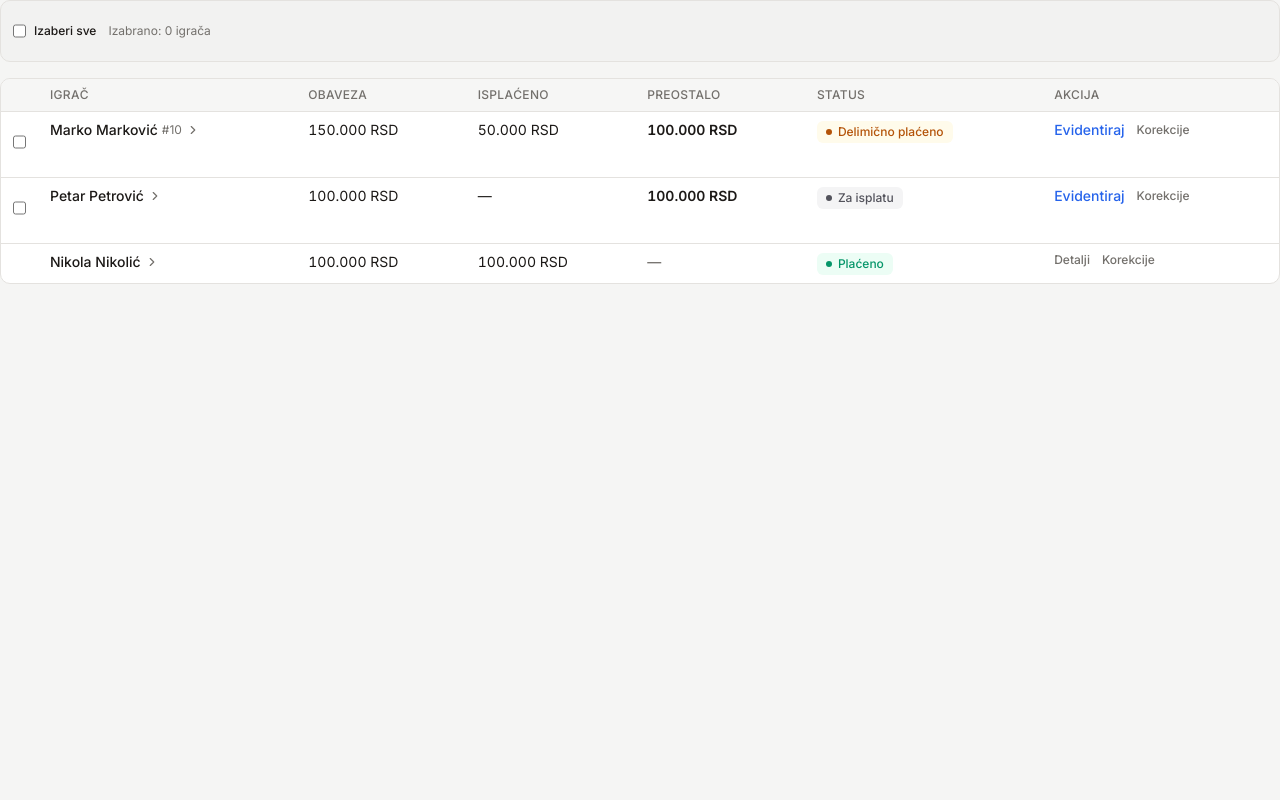
MonthPayments individual recording › blocks amounts above the remaining and 0/empty in the dialog
Click the button "Evidentiraj" in the row of "150.000 RSD": (1089, 130) left=1054, top=120, right=1125, bottom=140
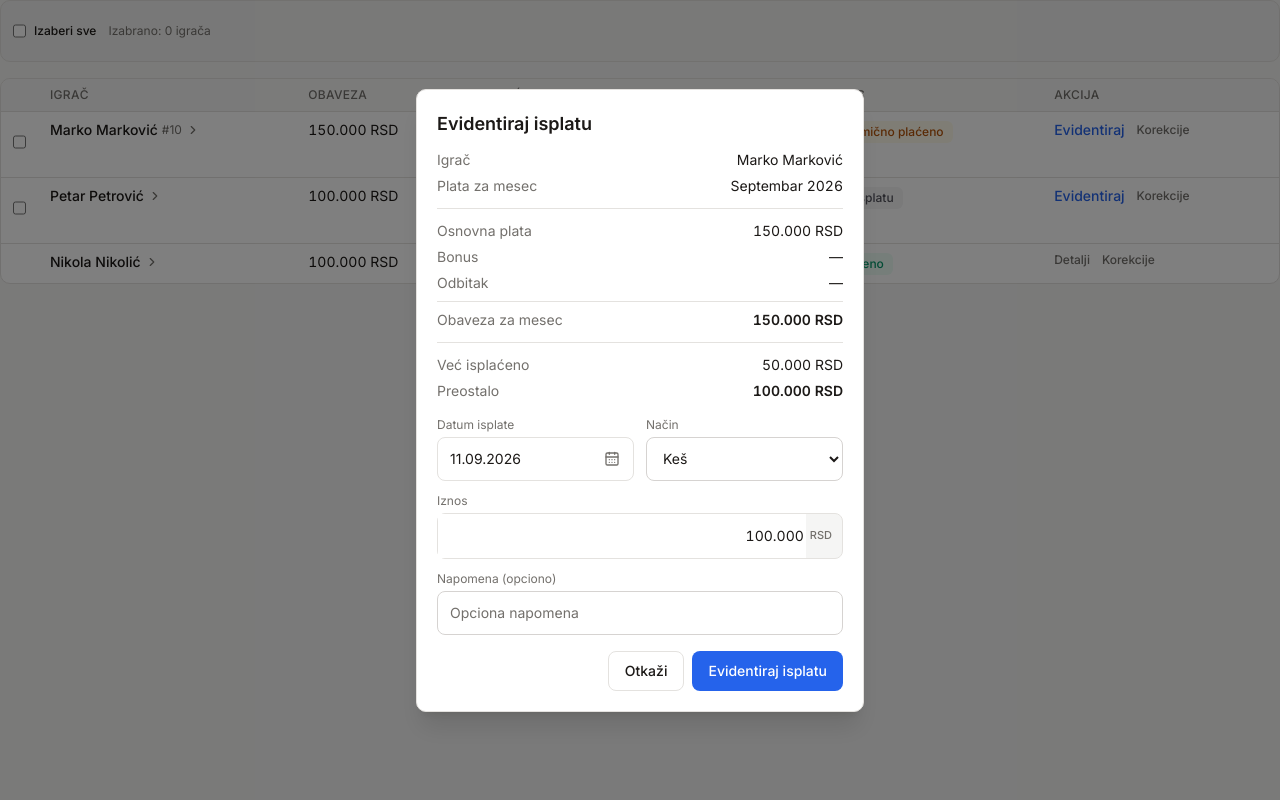
Now the button "Evidentiraj isplatu" is enabled, box left=692, top=650, right=843, bottom=690
Replace the text in the field labelled "Iznos" with "200.000": (622, 536) left=438, top=514, right=806, bottom=558
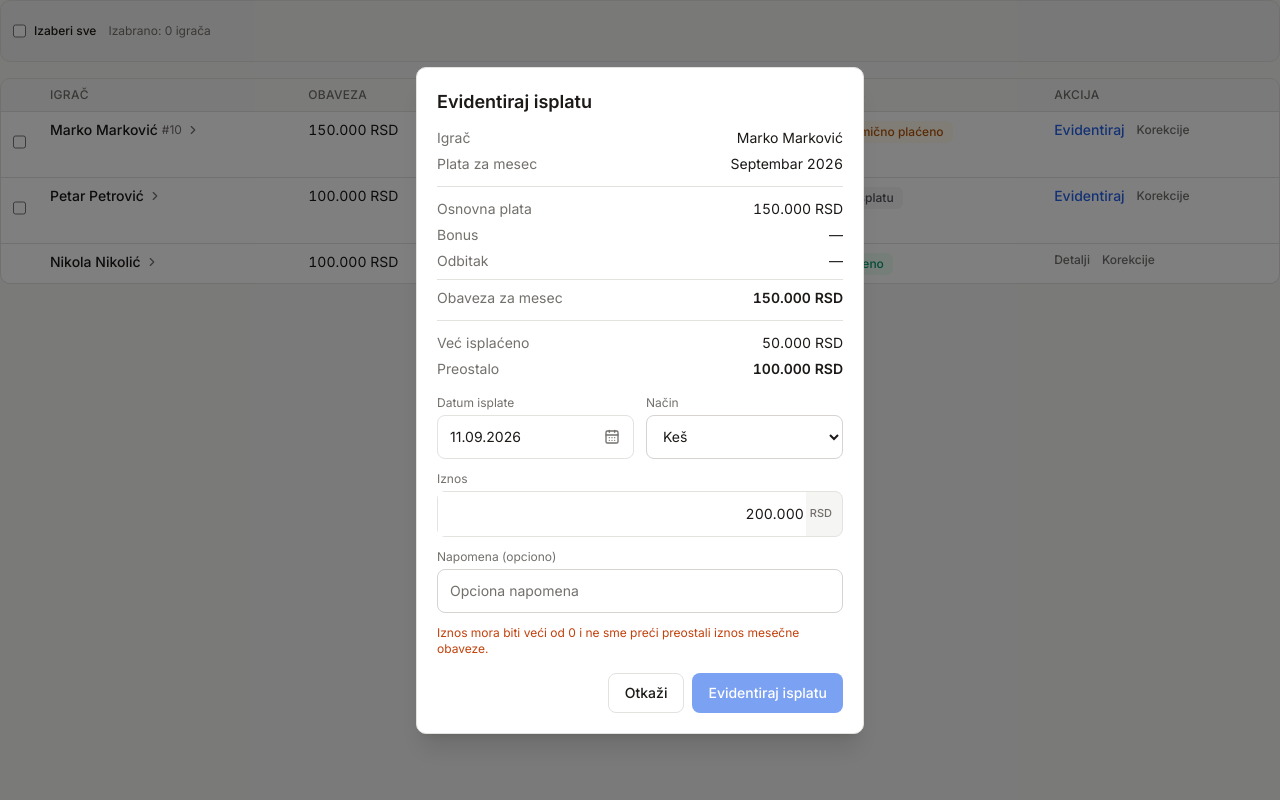
Now the button "Evidentiraj isplatu" is disabled, box left=692, top=672, right=843, bottom=712
Now the text "Iznos mora biti veći od 0 i ne sme preći preostali iznos mesečne obaveze." is shown, box left=437, top=624, right=843, bottom=656
Clear the field labelled "Iznos": (622, 514) left=438, top=492, right=806, bottom=536
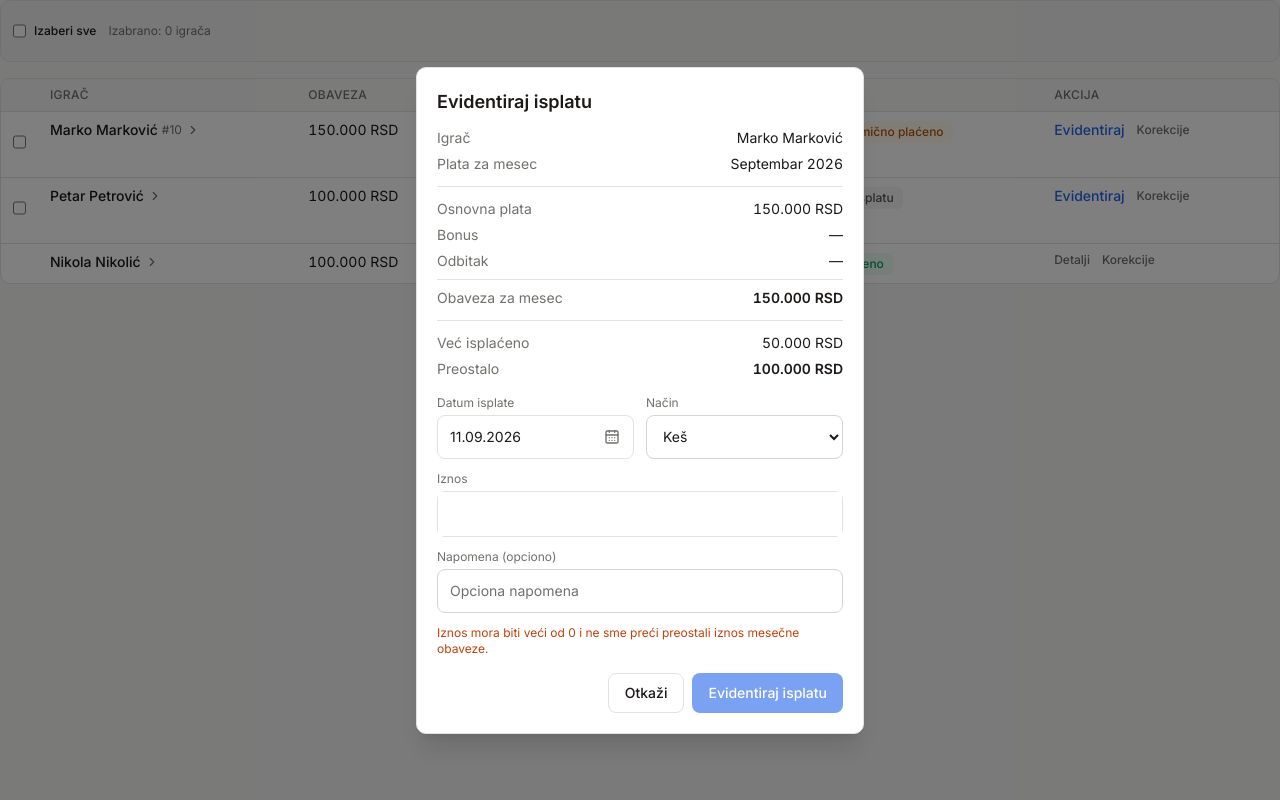
Now the button "Evidentiraj isplatu" is disabled, box left=692, top=672, right=843, bottom=712
In the field labelled "Iznos": (640, 514) left=438, top=492, right=842, bottom=536, type "100.000"
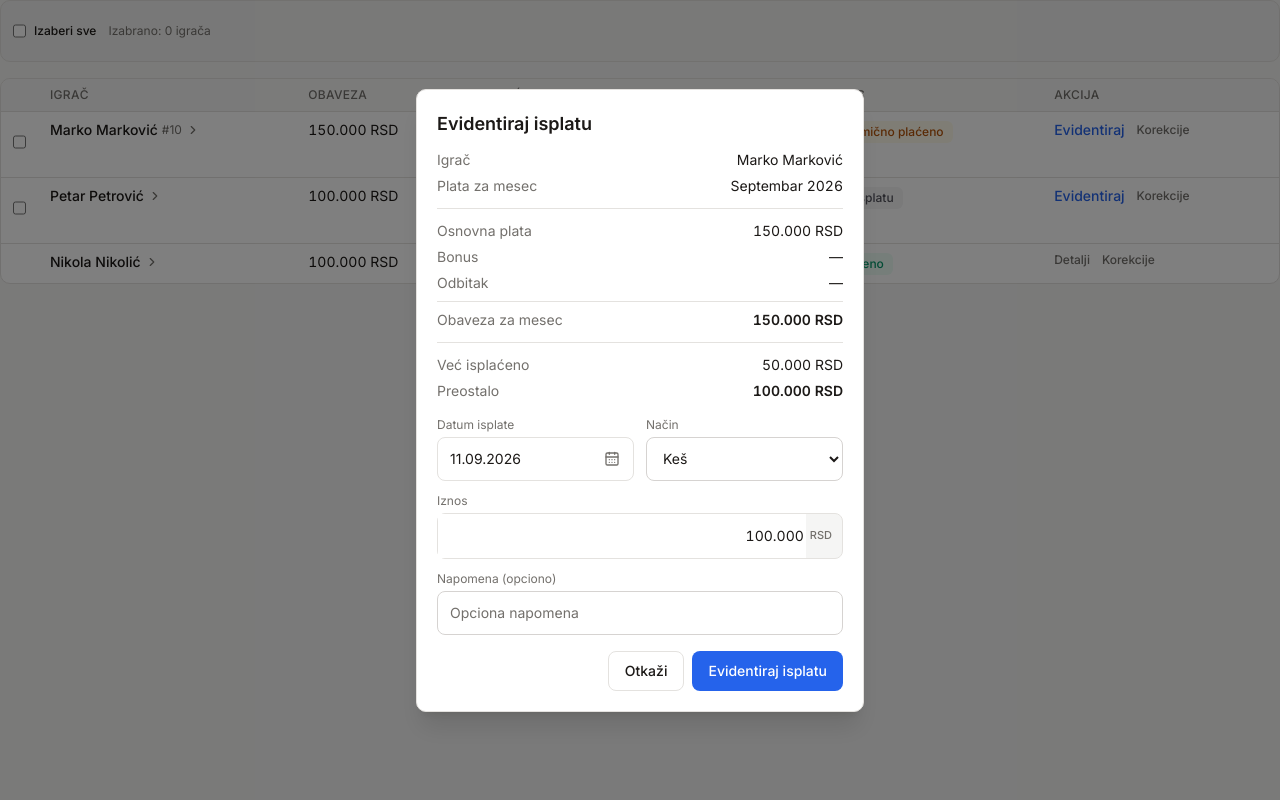
Now the button "Evidentiraj isplatu" is enabled, box left=692, top=650, right=843, bottom=690
